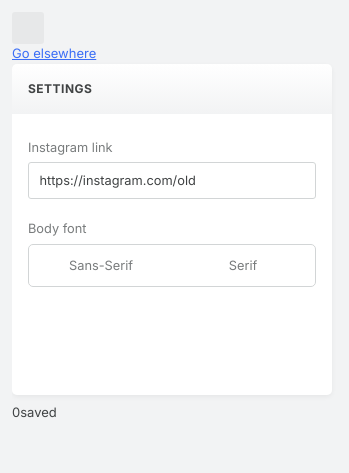
SiteSettingsPage › Save sends the values with the ETag, reloads the preview, and clears the header buttons, with no toast
Replace the text in the field labelled "Instagram link" with "https://instagram.com/new" at (172, 181), box [28,162,316,200]
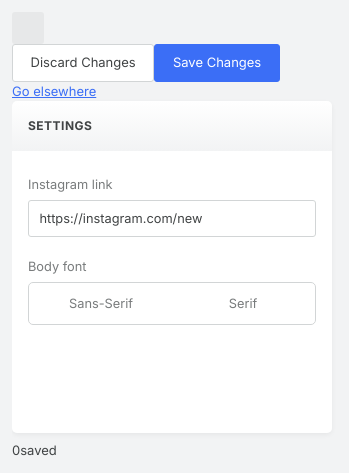
Click the button "Save Changes".
click(217, 63)  # box [154,44,280,82]
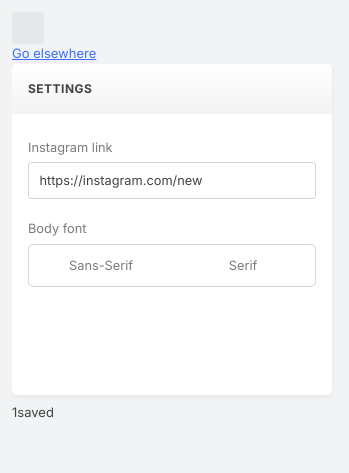
expect the button "Save Changes" is gone: met
